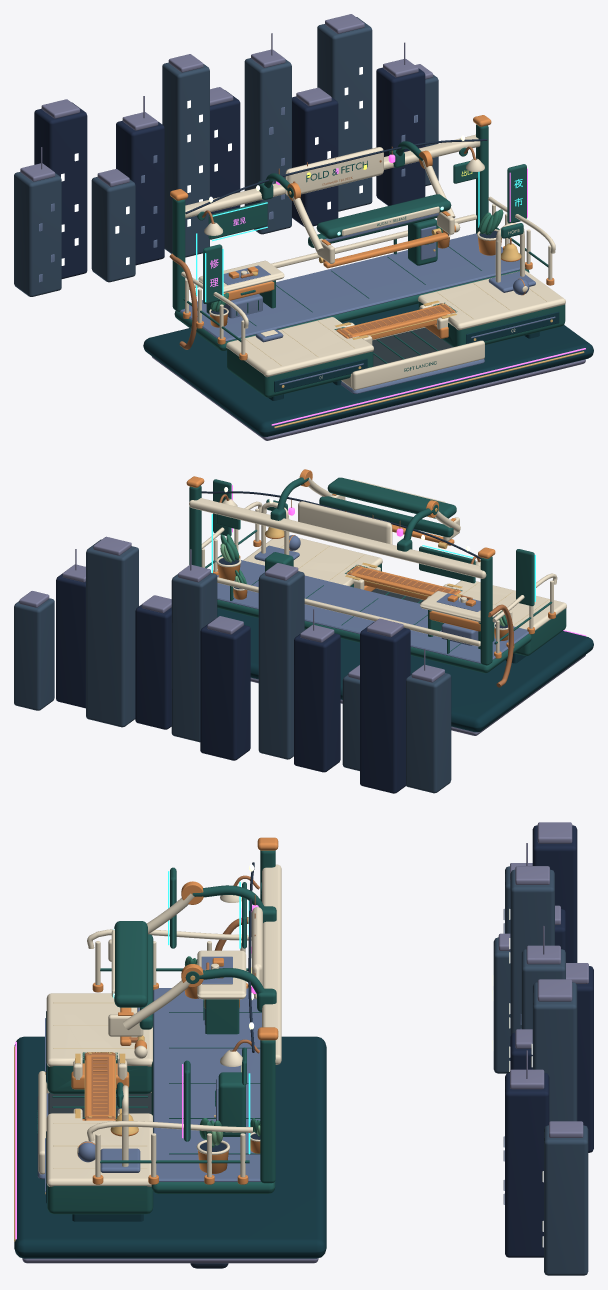
The model's file is 06-stargazer-assembled.glb.
3 views of the same model, one above another, from view 1: azimuth 30°, elevation 25°; view 2: azimuth 150°, elevation 25°; view 3: azimuth 270°, elevation 25° (orthographic). The views are drawn at different scales.
Parts seen in each view (by area): view 1: distant_city_mesh, rooftop_base_mesh, workshop_frame_mesh, floor_left_mesh, floor_right_mesh, neon_signage_mesh, recovery_tray_mesh, upper_chute_mesh, repair_bench_mesh, service_cables_mesh, roof_rails_mesh, bridge_beam_mesh (+4 smaller); view 2: distant_city_mesh, rooftop_base_mesh, workshop_frame_mesh, upper_chute_mesh, neon_signage_mesh, floor_left_mesh, floor_right_mesh, repair_bench_mesh, roof_rails_mesh, service_cables_mesh, bridge_beam_mesh, planters_mesh (+1 smaller); view 3: rooftop_base_mesh, distant_city_mesh, workshop_frame_mesh, floor_right_mesh, floor_left_mesh, upper_chute_mesh, roof_rails_mesh, repair_bench_mesh, neon_signage_mesh, service_cables_mesh, recovery_tray_mesh, bridge_beam_mesh (+4 smaller).
Part boxes in pixels (x1,y1,x2,y2): distant_city_mesh: (14,14,438,296); rooftop_base_mesh: (143,233,593,440); workshop_frame_mesh: (170,115,491,311); floor_left_mesh: (226,317,373,400); floor_right_mesh: (418,270,565,347); neon_signage_mesh: (196,147,585,425); recovery_tray_mesh: (340,327,484,393); upper_chute_mesh: (287,150,455,263); repair_bench_mesh: (198,260,284,318); service_cables_mesh: (169,135,487,349); roof_rails_mesh: (181,196,555,360); bridge_beam_mesh: (336,303,455,339); distant_city_mesh: (14,536,451,793); rooftop_base_mesh: (217,560,593,735); workshop_frame_mesh: (186,476,495,665); upper_chute_mesh: (299,469,460,541); neon_signage_mesh: (211,479,586,636); floor_left_mesh: (451,580,566,663); floor_right_mesh: (243,537,382,587); repair_bench_mesh: (420,591,502,649); roof_rails_mesh: (201,501,557,658); service_cables_mesh: (201,487,513,687); bridge_beam_mesh: (346,565,460,599); planters_mesh: (216,534,508,640); rooftop_base_mesh: (14,988,326,1268); distant_city_mesh: (492,822,593,1275); workshop_frame_mesh: (192,837,281,1183); floor_right_mesh: (45,1113,153,1221); floor_left_mesh: (45,993,152,1094); upper_chute_mesh: (108,881,203,1036); roof_rails_mesh: (87,929,252,1184); repair_bench_mesh: (197,950,246,1034); neon_signage_mesh: (15,867,258,1239); service_cables_mesh: (214,862,254,1136); recovery_tray_mesh: (37,1071,151,1179); bridge_beam_mesh: (84,1052,115,1120).
Bounding box in the file's own units: 11.31 × 5.6 × 10.41.
